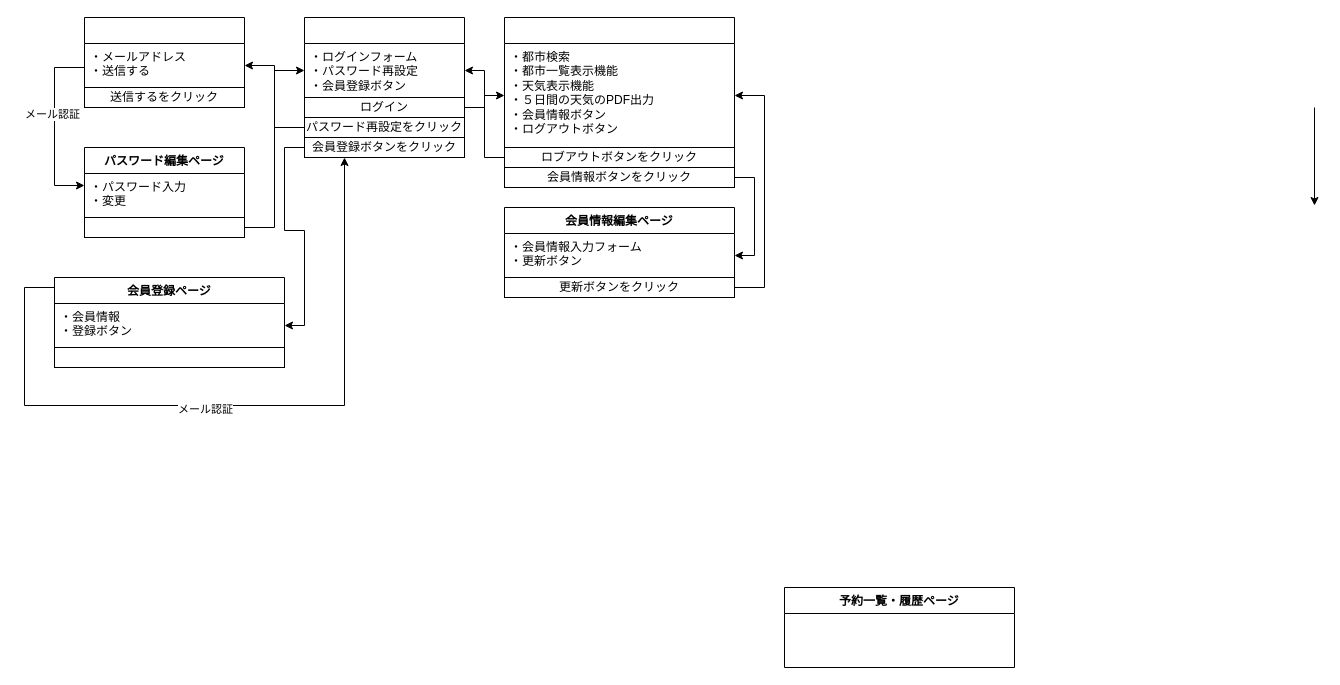
Some shapes in this 1340 by 685 pixel diagram are drawn without their labels. Each missing label, with the box of its shape:
パスワード再設定ページ: (84, 16, 244, 108)
ログインページ: (304, 16, 464, 158)
変更をクリック: (84, 216, 244, 238)
天気ダッシュボード: (504, 16, 734, 188)
登録ボタンをクリック: (54, 346, 284, 368)
